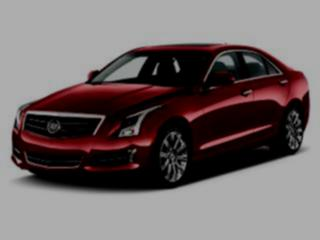cadillac: (46, 117, 63, 137)
